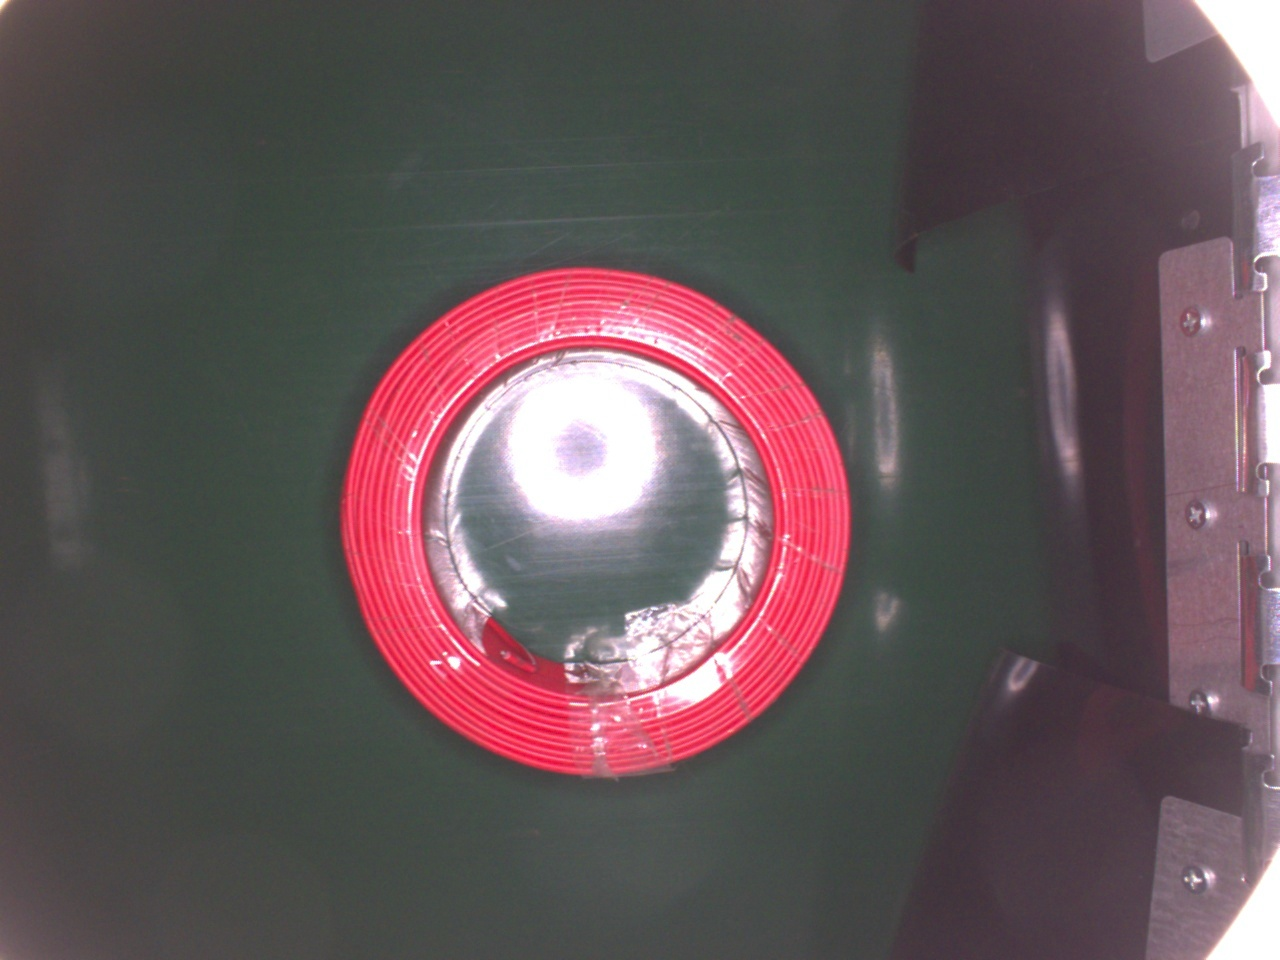red: (336, 263, 856, 784)
